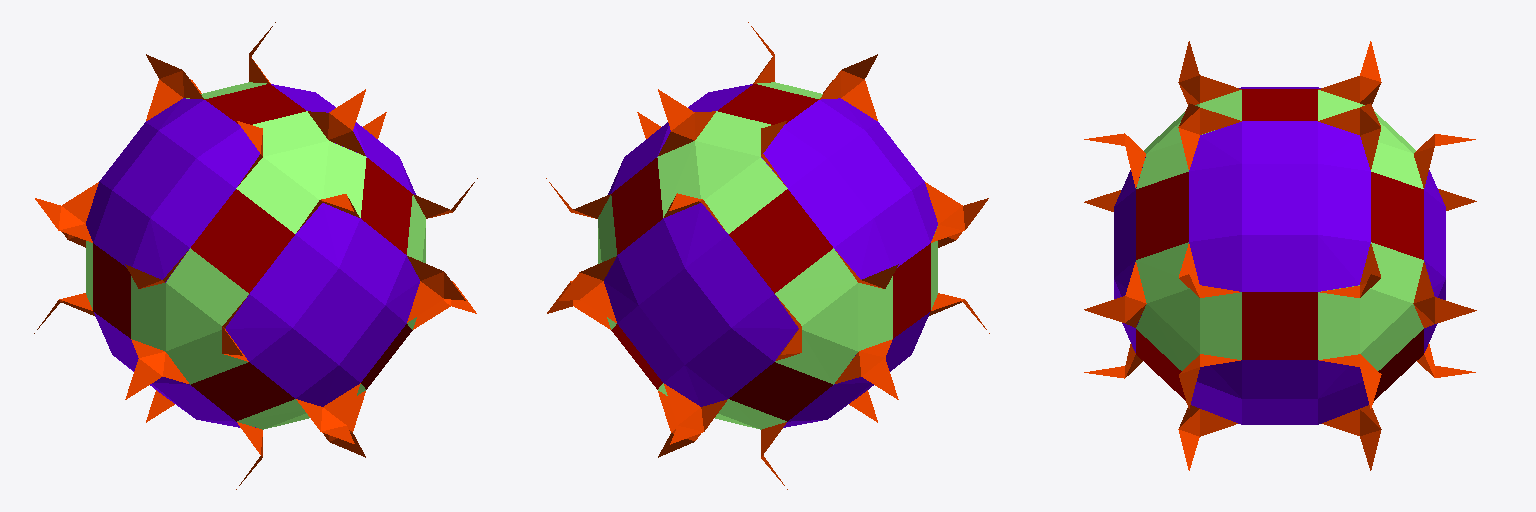
File: catoms3D_stl_model.obj
3 views of the same model, side by side, from view 1: azimuth 30°, elevation 25°; view 2: azimuth 150°, elevation 25°; view 3: azimuth 270°, elevation 25° (orthographic).
Visible parts, largest first — view 1: ref0, ref4, corner2, corner4, connecteur03, connecteur04, connecteur02, ref3, connecteur06, connecteur01, ref1, add45 (+10 smaller); view 2: ref5, ref4, corner3, corner5, connecteur11, connecteur08, connecteur10, ref3, connecteur06, connecteur01, ref1, add15 (+10 smaller); view 3: ref1, ref2, corner1, corner0, connecteur00, connecteur02, connecteur10, corner4, corner5, ref5, ref0, connecteur01 (+18 smaller).
Boxes of the visible parts, <box> form: ref0: <box>225,203,419,406</box>; ref4: <box>86,98,259,282</box>; corner2: <box>131,248,248,384</box>; corner4: <box>236,111,366,233</box>; connecteur03: <box>191,189,294,293</box>; connecteur04: <box>191,362,294,421</box>; connecteur02: <box>361,158,412,254</box>; ref3: <box>94,312,255,427</box>; connecteur06: <box>93,243,130,338</box>; connecteur01: <box>205,84,305,124</box>; ref1: <box>271,84,415,194</box>; add45: <box>146,54,204,120</box>; ref5: <box>604,203,798,406</box>; ref4: <box>761,98,937,279</box>; corner3: <box>775,248,892,384</box>; corner5: <box>657,111,787,233</box>; connecteur11: <box>729,189,832,293</box>; connecteur08: <box>729,362,832,421</box>; connecteur10: <box>611,158,662,254</box>; ref3: <box>783,312,929,427</box>; connecteur06: <box>893,243,930,338</box>; connecteur01: <box>718,84,818,124</box>; ref1: <box>608,84,752,194</box>; add15: <box>658,89,715,155</box>; ref1: <box>1189,121,1370,291</box>; ref2: <box>1191,360,1368,424</box>; corner1: <box>1318,242,1423,370</box>; corner0: <box>1136,242,1241,370</box>; connecteur00: <box>1242,292,1317,359</box>; connecteur02: <box>1136,172,1188,259</box>; connecteur10: <box>1371,172,1423,259</box>; corner4: <box>1136,90,1241,188</box>; corner5: <box>1318,90,1423,188</box>; ref5: <box>1424,170,1445,352</box>; ref0: <box>1114,157,1145,352</box>; connecteur01: <box>1242,89,1317,120</box>.
Size of the model in its own units: 12.27 by 12.27 by 11.88.